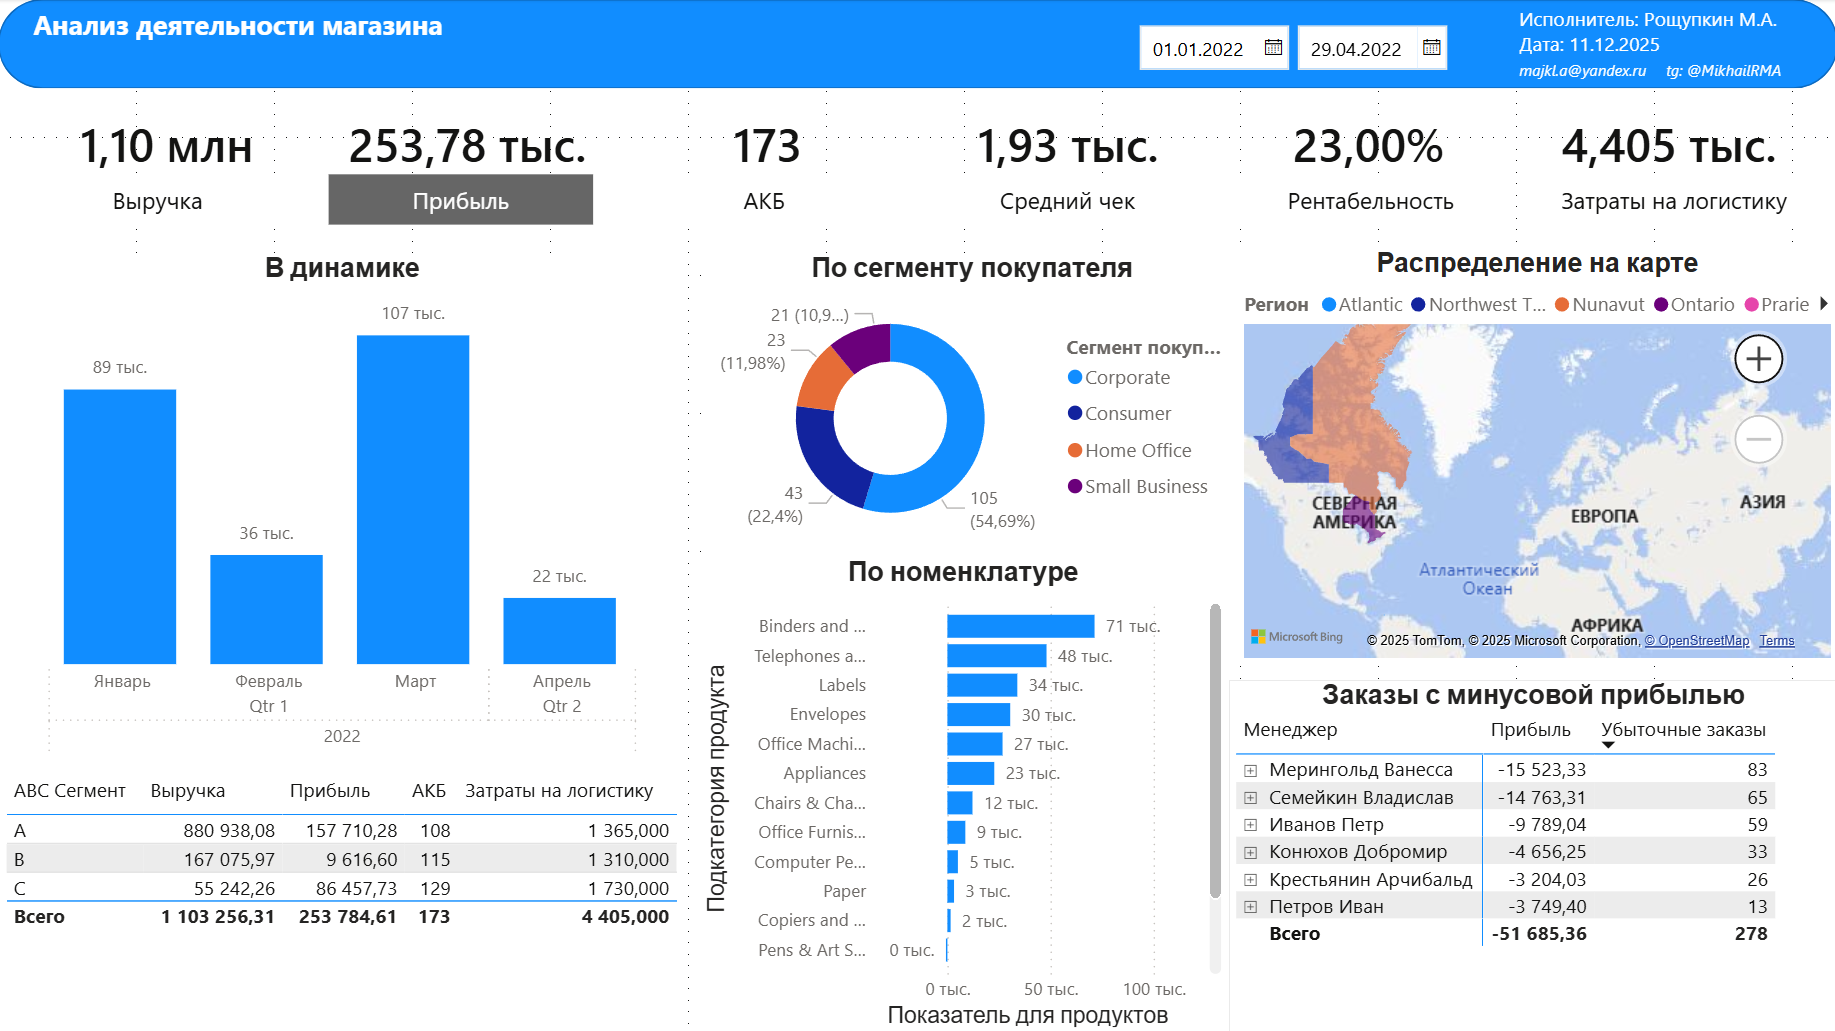

The dashboard page shown, as its layout file describes it:
{"tool":"powerbi","page":{"name":"Страница 1","canvas":[1280,720],"ordinal":0},"visuals":[{"type":"shape","box":[0,0,1280,62.3],"z":0},{"type":"textbox","box":[19.2,0,376.9,47.7],"z":1000},{"type":"textbox","box":[19.2,34.6,530.8,34.6],"z":2000},{"type":"textbox","box":[1053.1,0,226.9,47.5],"z":3000},{"type":"textbox","box":[1053.1,34.8,226.9,39.5],"z":4000},{"type":"cardVisual","fields":{"Data":["Меры.Выручка","Меры.Прибыль","Меры.АКБ","Меры.Средний чек","Меры.Рентабельность","Меры.Затраты на логистику"]},"box":[0,62.3,1280,73.1],"z":5000},{"type":"slicer","fields":{"Values":["СПР_даты_заказа.Дата"]},"box":[781.5,8.5,271.5,43.8],"z":6000},{"type":"advancedSlicerVisual","fields":{"Values":["Показатели.Показатель"]},"box":[0,102.6,1280,73.9],"z":7000},{"type":"lineStackedColumnComboChart","title":"В динамике","fields":{"Y2":["select","Меры.Горизонтальная линия"],"Category":["Календарь.Date.Изменение.Иерархия дат.Год","Календарь.Date.Изменение.Иерархия дат.Квартал","Календарь.Date.Изменение.Иерархия дат.Месяц"],"Y":["Показатели.Выбранный показатель"]},"box":[0,177,479,358],"z":8000},{"type":"donutChart","title":"По сегменту покупателя","fields":{"Category":["СПР_покупатели.Сегмент покупателя"],"Y":["CountNonNull(СПР_покупатели.Сегмент покупателя)"]},"box":[493,177,369,211],"z":9000},{"type":"barChart","title":"По номенклатуре","fields":{"Category":["СПР_продукты.Категория продукта Иерархия.Категория продукта","СПР_продукты.Категория продукта Иерархия.Подкатегория продукта","СПР_продукты.Категория продукта Иерархия.Продукт"],"Y":["СПР_продукты.Показатель для продуктов"]},"box":[487,388,369,332],"z":10000},{"type":"filledMap","title":"Распределение на карте","fields":{"Category":["СПР_менеджеры.Регион"],"Series":["СПР_менеджеры.Регион"],"Y":["Min(СПР_менеджеры.Регион)"],"X":["Min(СПР_менеджеры.Регион)"]},"box":[862,173,418,290],"z":11000},{"type":"tableEx","fields":{"Values":["СПР_продукты.ABC Сегмент","Меры.Выручка","Меры.Прибыль","Меры.АКБ","Меры.Затраты на логистику"]},"box":[0,535,479,185],"z":12000},{"type":"pivotTable","title":"Заказы с минусовой прибылью","fields":{"Rows":["СПР_менеджеры.Менеджер","Продажи.Order_ID"],"Values":["Меры.Прибыль","Меры.Убыточные заказы"]},"box":[856,474,424,246],"z":13000}]}

Visuals, with their boxes in screenshot pixels (x1, y1, x2, y2), scaled from the page's 1280x720 canvas onto the 1835x1031 screenshot:
shape: [0, 0, 1834, 89]
textbox: [28, 0, 568, 68]
textbox: [28, 50, 788, 99]
textbox: [1510, 0, 1834, 68]
textbox: [1510, 50, 1834, 106]
cardVisual - Меры.Выручка x Меры.Прибыль: [0, 89, 1834, 194]
slicer - СПР_даты_заказа.Дата: [1120, 12, 1510, 75]
advancedSlicerVisual - Показатели.Показатель: [0, 147, 1834, 253]
"В динамике" lineStackedColumnComboChart: [0, 253, 687, 766]
"По сегменту покупателя" donutChart: [707, 253, 1236, 556]
"По номенклатуре" barChart: [698, 556, 1227, 1030]
"Распределение на карте" filledMap: [1236, 248, 1834, 663]
tableEx - СПР_продукты.ABC Сегмент x Меры.Выручка: [0, 766, 687, 1030]
"Заказы с минусовой прибылью" pivotTable: [1227, 679, 1834, 1030]
